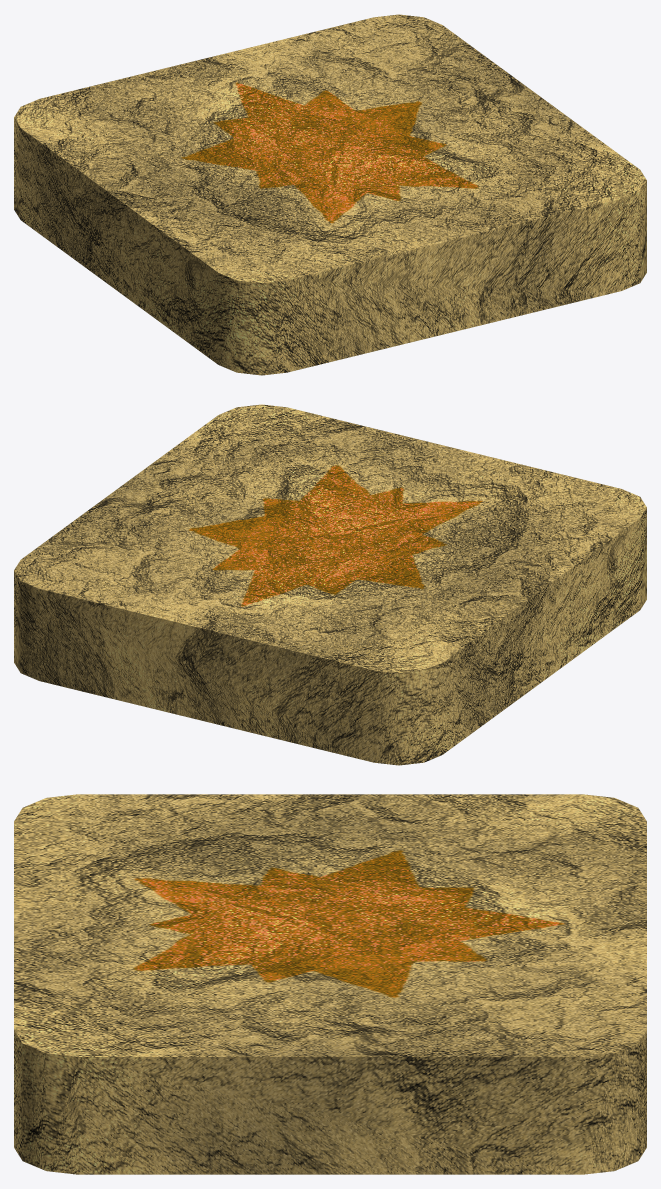
Rendered from Star_tile.fbx.
The picture shows the model from 3 angles, top to bottom: view 1: azimuth 30°, elevation 25°; view 2: azimuth 150°, elevation 25°; view 3: azimuth 270°, elevation 25°; orthographic projection. The views are drawn at different scales.
Parts seen in each view (by area): view 1: pCube1; view 2: pCube1; view 3: pCube1.
Boxes of the visible parts, <box> form: pCube1: <box>14,14,646,375</box>; pCube1: <box>14,404,646,765</box>; pCube1: <box>14,794,646,1174</box>.
Size of the model in its own units: 2 by 0.4186 by 2.04.
1 material, 1 textured.
